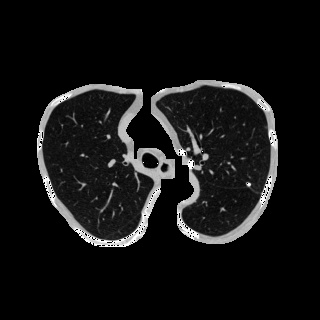PN: (245, 181, 251, 187)
